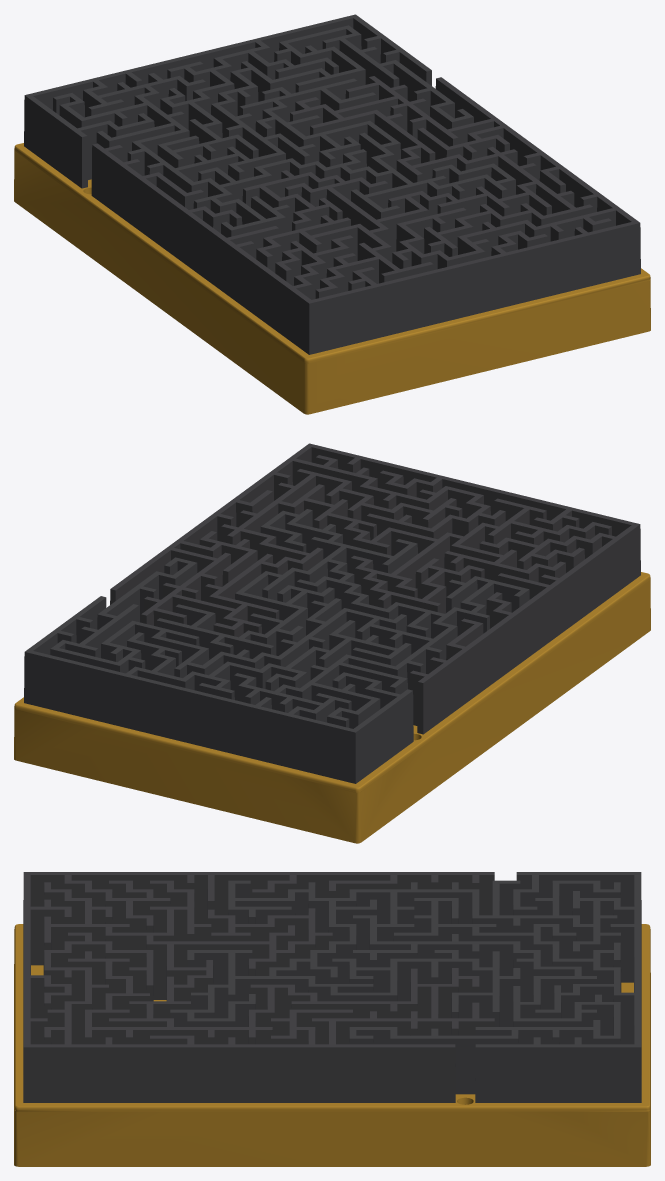
Rendered from laberinto_re.glb.
The picture shows the model from 3 angles, top to bottom: view 1: azimuth 30°, elevation 25°; view 2: azimuth 150°, elevation 25°; view 3: azimuth 270°, elevation 25°; orthographic projection. The views are drawn at different scales.
Parts seen in each view (by area): view 1: Object_3, Object_2, Object_4; view 2: Object_2, Object_3, Object_4; view 3: Object_3, Object_2, Object_4.
Boxes of the visible parts, <box> form: Object_3: <box>91,76,640,354</box>; Object_2: <box>24,14,515,237</box>; Object_4: <box>14,143,650,414</box>; Object_2: <box>24,509,529,783</box>; Object_3: <box>110,443,640,734</box>; Object_4: <box>14,572,650,843</box>; Object_3: <box>23,872,494,1102</box>; Object_2: <box>170,872,641,1102</box>; Object_4: <box>14,924,650,1166</box>.
Size of the model in its own units: 197 by 57.75 by 289.
